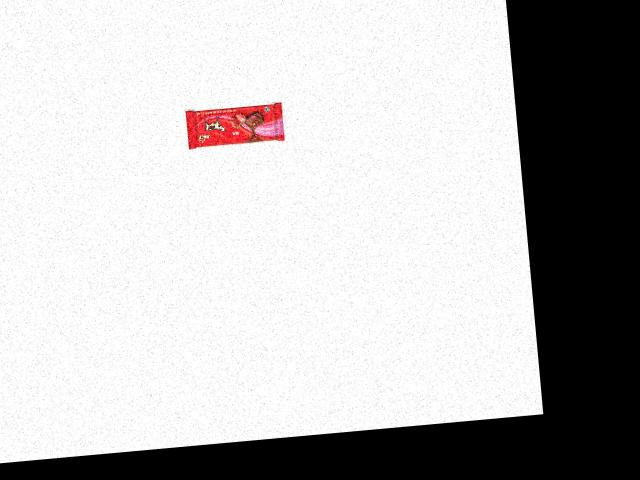chocolate: (177, 95, 285, 149)
